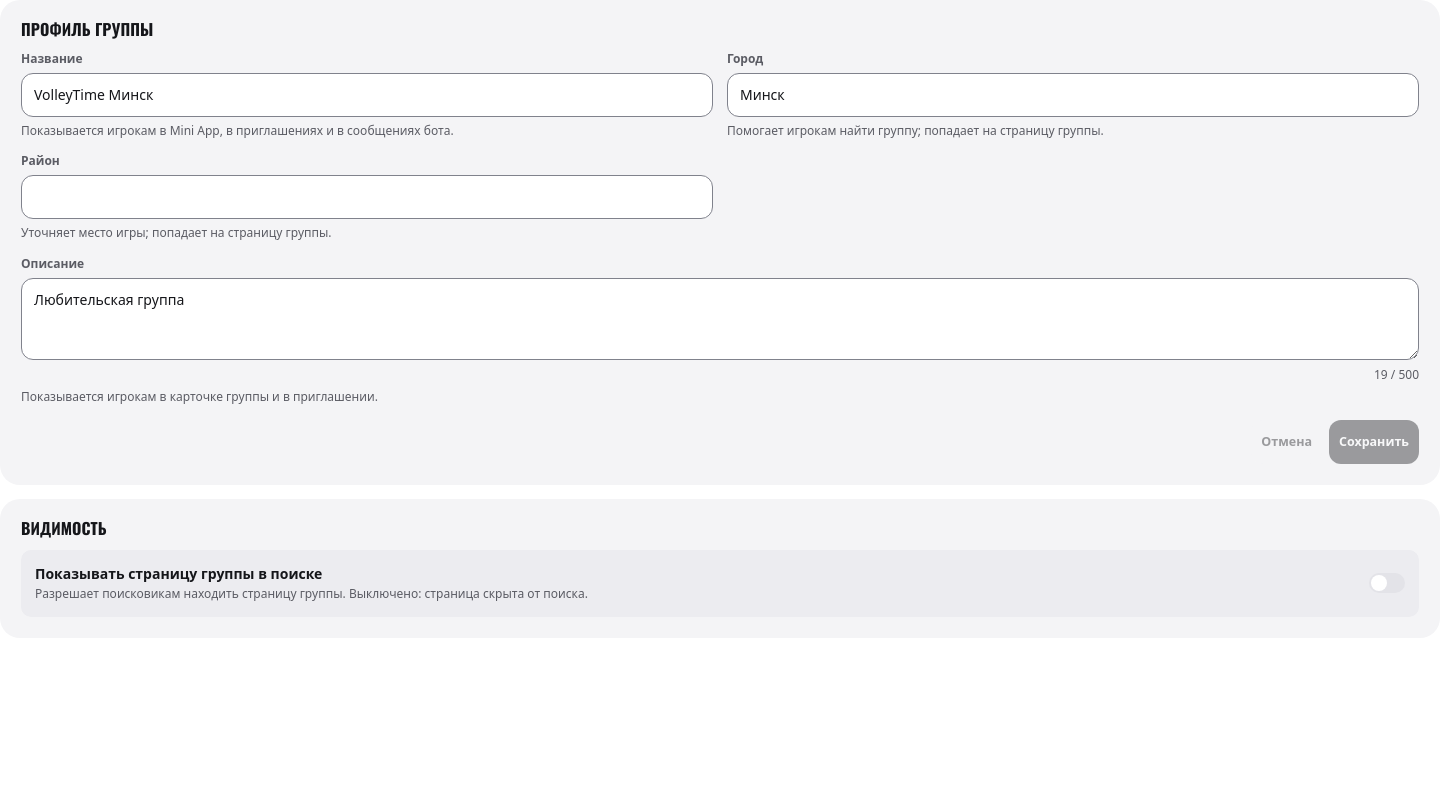
Test: SettingsProfile › keeps the typed values and shows the server error when saving fails
The width and height of the screenshot is (1440, 810).
Replace the text in the field labelled "Название" with "Другое имя" at (367, 95), box [21,73,713,117]
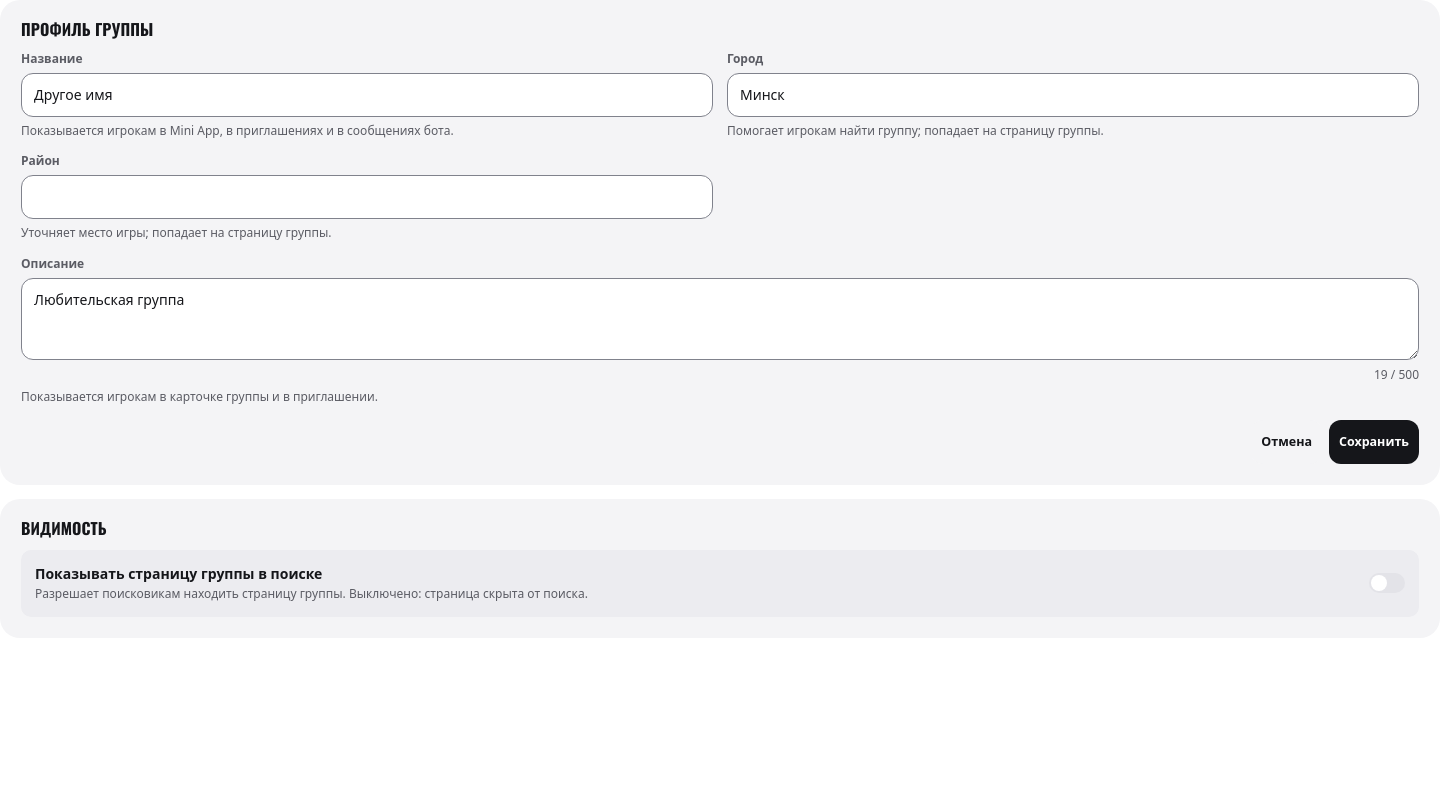
Submit the form, box [0,0,1439,485]
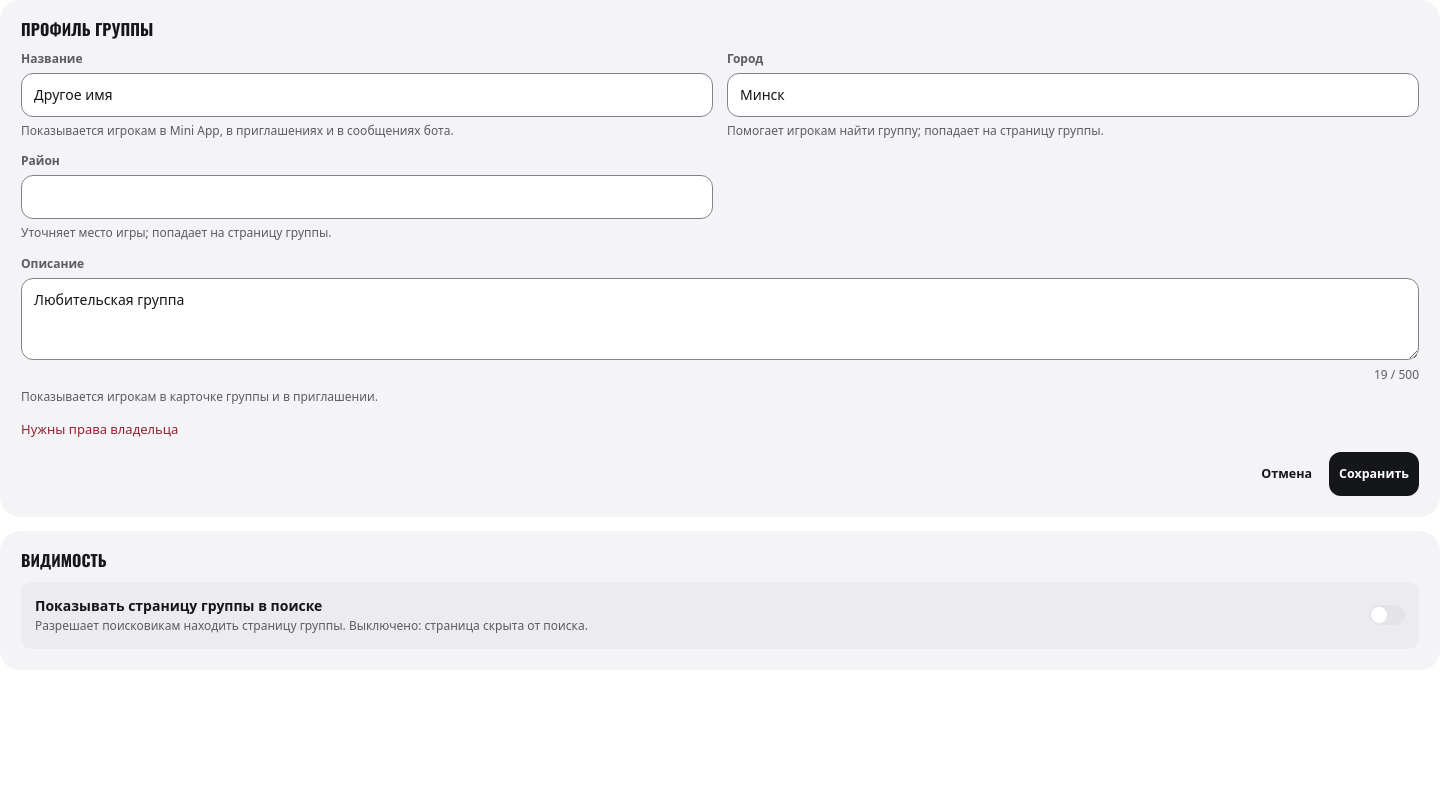
Check: the message "Нужны права владельца" is shown, box [21,420,178,438]
